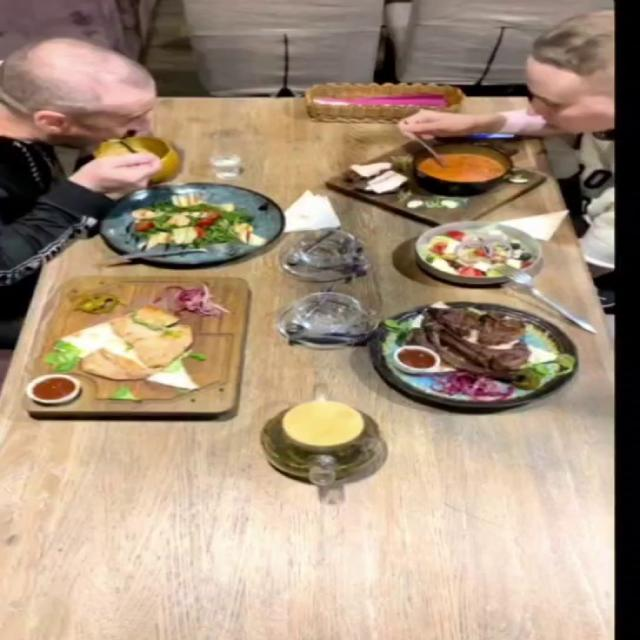alcohol: (206, 157, 282, 186)
meat: (367, 301, 579, 408)
salat: (96, 183, 282, 265), (413, 220, 545, 284)
soup: (322, 138, 550, 226), (93, 136, 180, 183)
tea: (280, 400, 364, 447)
